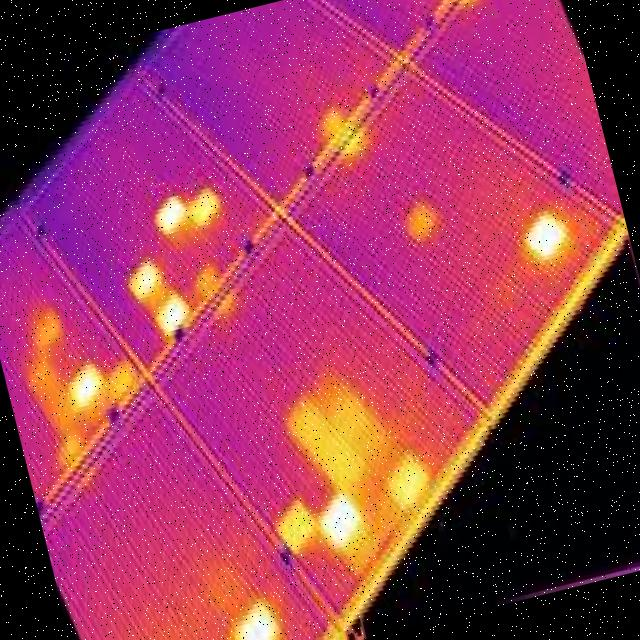Hotspot: (286, 371, 392, 492), (21, 346, 78, 438), (374, 445, 442, 517), (268, 492, 326, 562), (520, 203, 572, 267), (314, 494, 362, 554), (47, 414, 97, 470), (231, 587, 283, 640), (100, 351, 140, 412), (148, 186, 192, 240), (24, 301, 68, 355), (401, 195, 442, 248), (120, 258, 164, 306), (311, 97, 350, 150), (188, 182, 225, 234), (64, 362, 105, 408), (150, 293, 197, 332), (188, 261, 228, 306), (341, 126, 375, 166), (460, 0, 493, 11)
